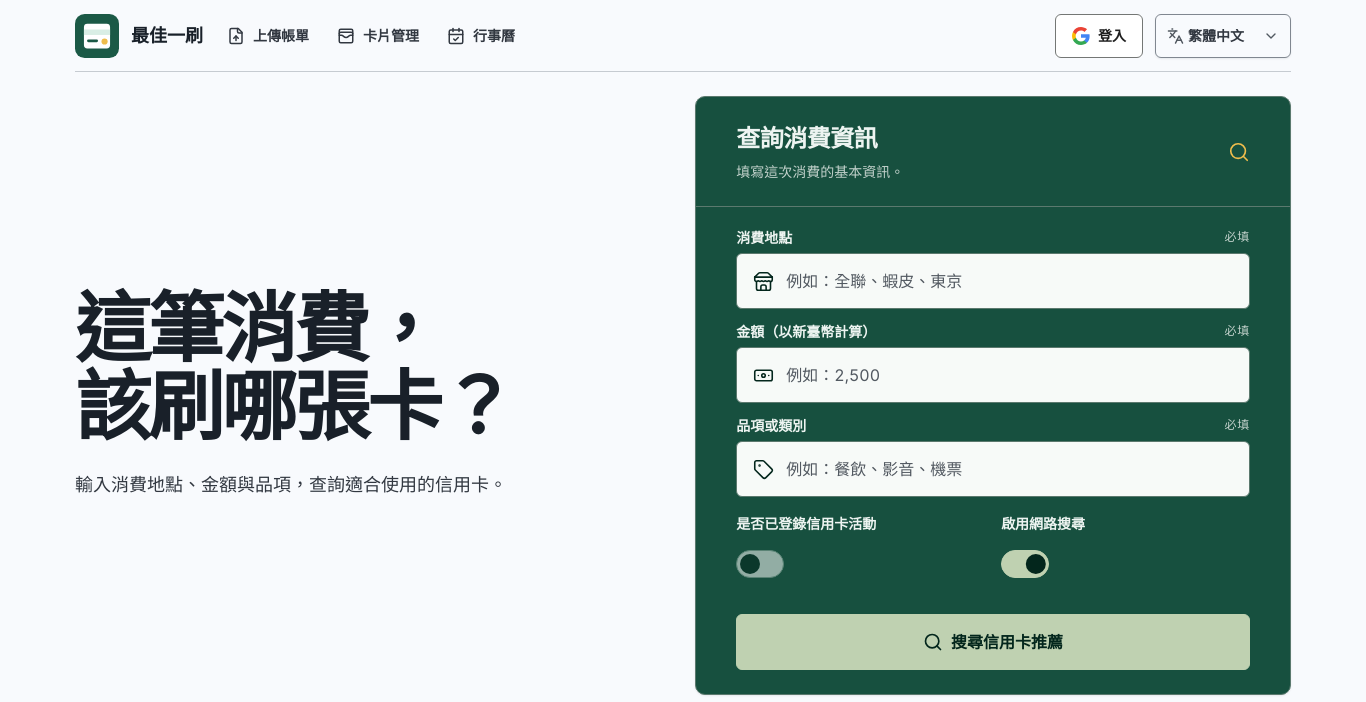
Test case: HomeView › switches the interface and existing validation messages without reloading
This screenshot has width=1366, height=702.
Submit the form, box [695, 96, 1291, 695]
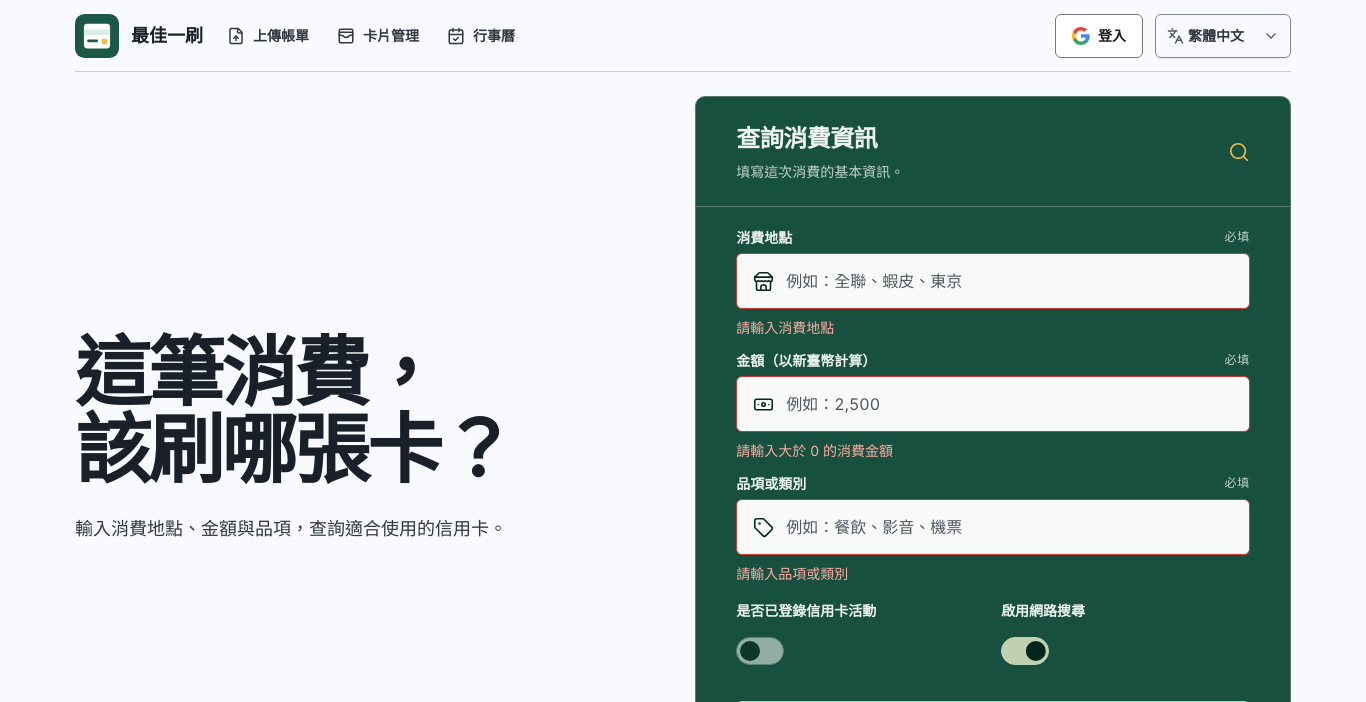
Result: the message "請輸入消費地點" is shown at [736, 319, 834, 336]
Select "English" in the dropdown with class "topbar__language-select" at (1223, 36), box [1155, 14, 1291, 58]
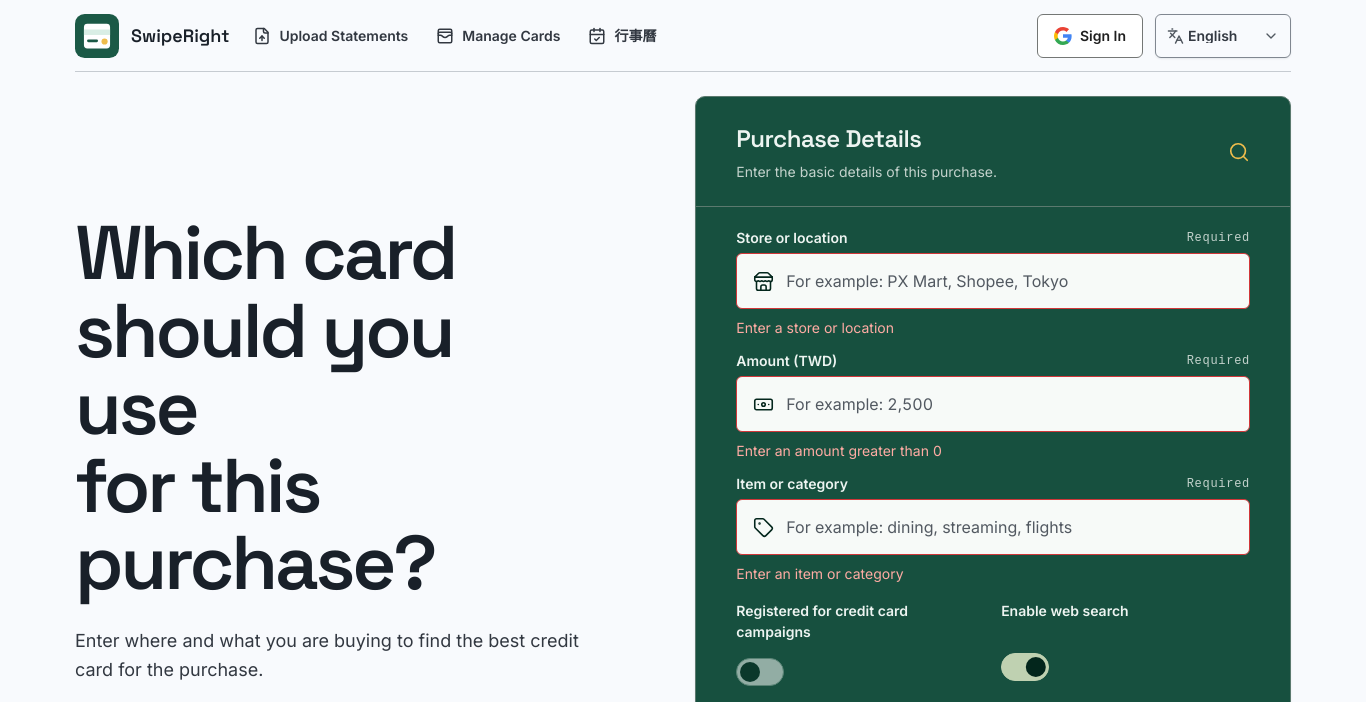
Result: the heading "Which card should you usefor this purchase?" is shown at [75, 204, 455, 611]
Result: the message "Enter a store or location" is shown at [736, 319, 894, 336]
Result: the label "Registered for credit card campaigns" is shown at [736, 602, 908, 640]
